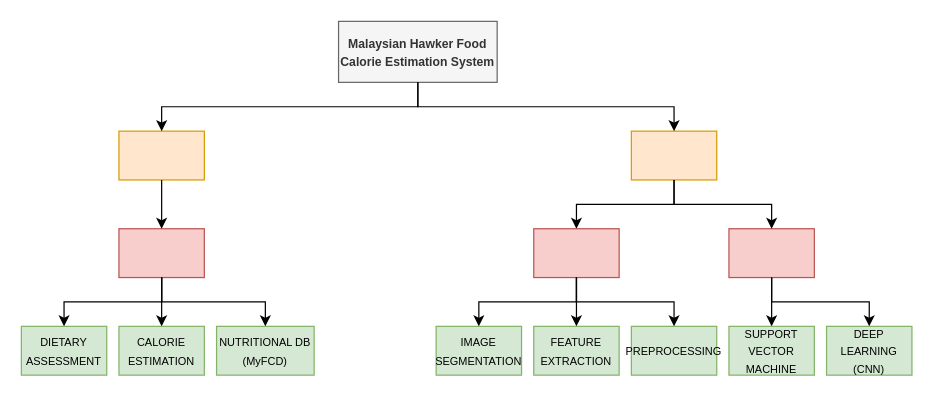
Some shapes in this 933 by 398 pixel diagram are drawn without their labels. The shapes that lost their labels are listed below. From the top down, each one's centre as x and y in pixels, then its label:
point (161, 155): DOMAIN AREA
point (673, 155): RESEARCH AREA
point (161, 253): HEALTH & NUTRITION
point (576, 253): IMAGE PROCESSING
point (771, 253): MACHINE LEARNING
